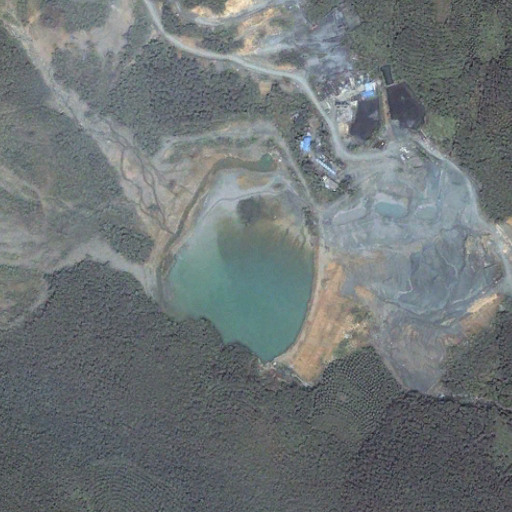tp: (158, 152, 318, 361)
